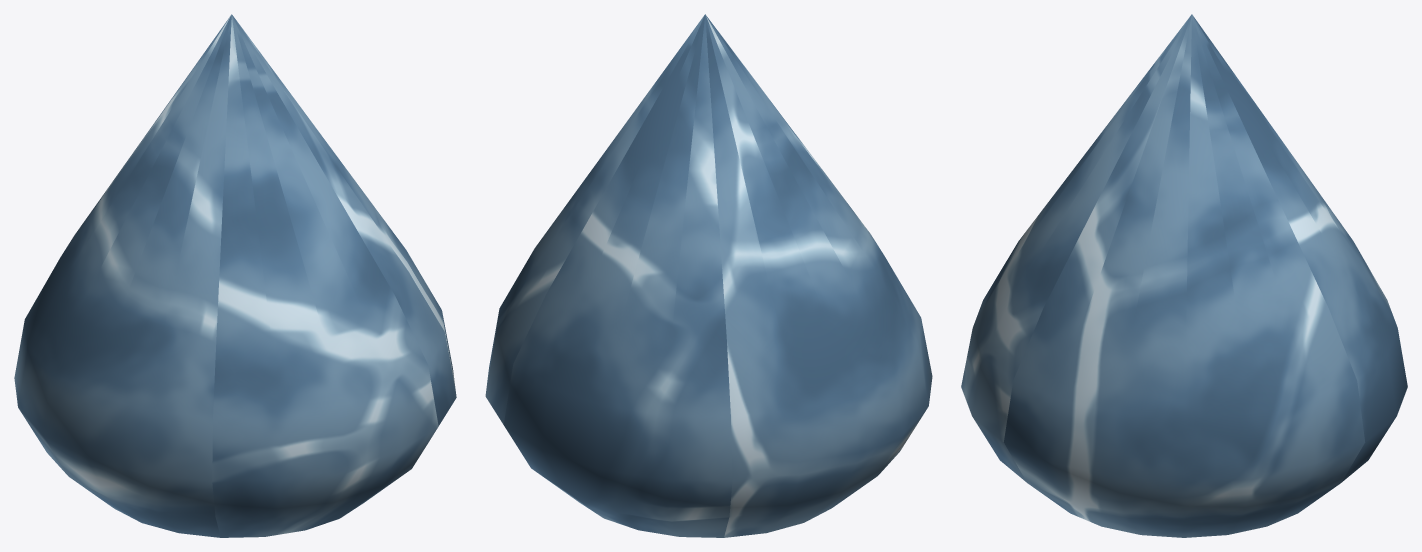
The model's file is Droplet 1.fbx.
3 views of the same model, side by side, from view 1: azimuth 30°, elevation 25°; view 2: azimuth 150°, elevation 25°; view 3: azimuth 270°, elevation 25° (orthographic).
Parts seen in each view (by area): view 1: pSphere6; view 2: pSphere6; view 3: pSphere6.
Part boxes in pixels (x1,y1,x2,y2): pSphere6: (14, 14, 456, 537); pSphere6: (485, 14, 932, 537); pSphere6: (961, 14, 1407, 537).
Bounding box in the file's own units: 33.94 × 42.08 × 33.94.
Materials: 1 (1 with a texture image).
